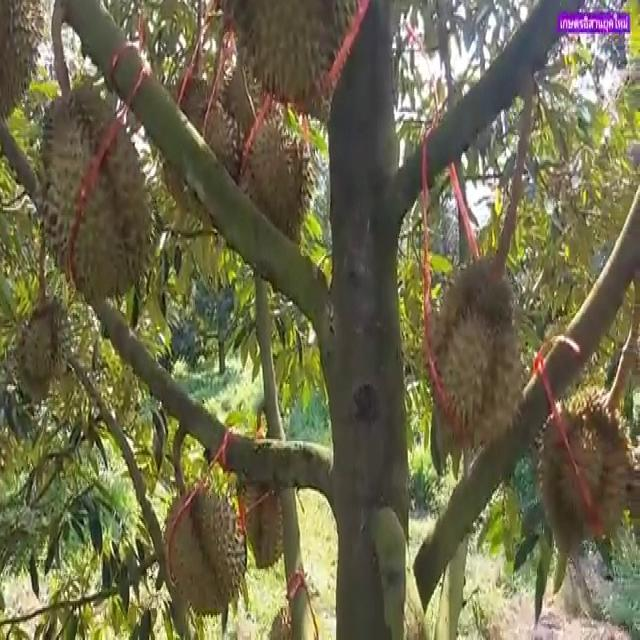durian: (32, 72, 162, 310), (424, 248, 529, 460), (536, 380, 638, 562), (213, 0, 365, 111), (149, 66, 249, 221), (223, 115, 319, 272), (160, 473, 250, 623), (237, 431, 297, 574), (10, 293, 73, 415), (1, 0, 51, 128)
